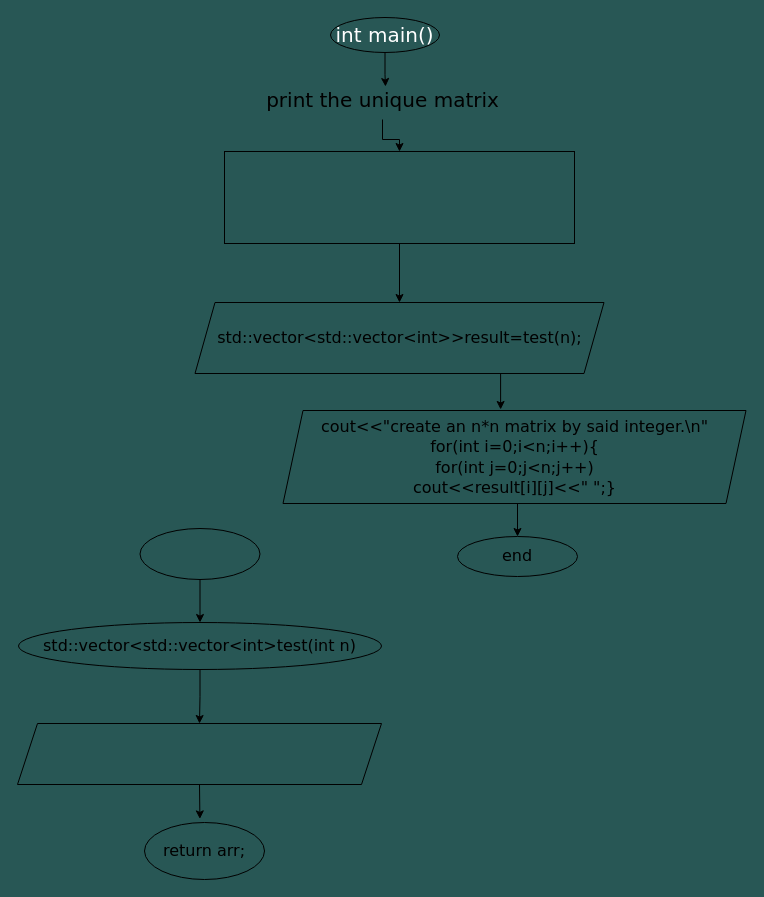
Some shapes in this 764 by 897 pixel diagram are drawn without their labels. Here are the shapes that lost their labels. From the top down, the centre of each, then its label:
point (399, 197): int n; cout<<"input an integer value:"; cin>>n;
point (199, 554): test(n)
point (199, 753): std::vector<int>t(n,n); std::vector<std::vector<int>arr(n,t);
